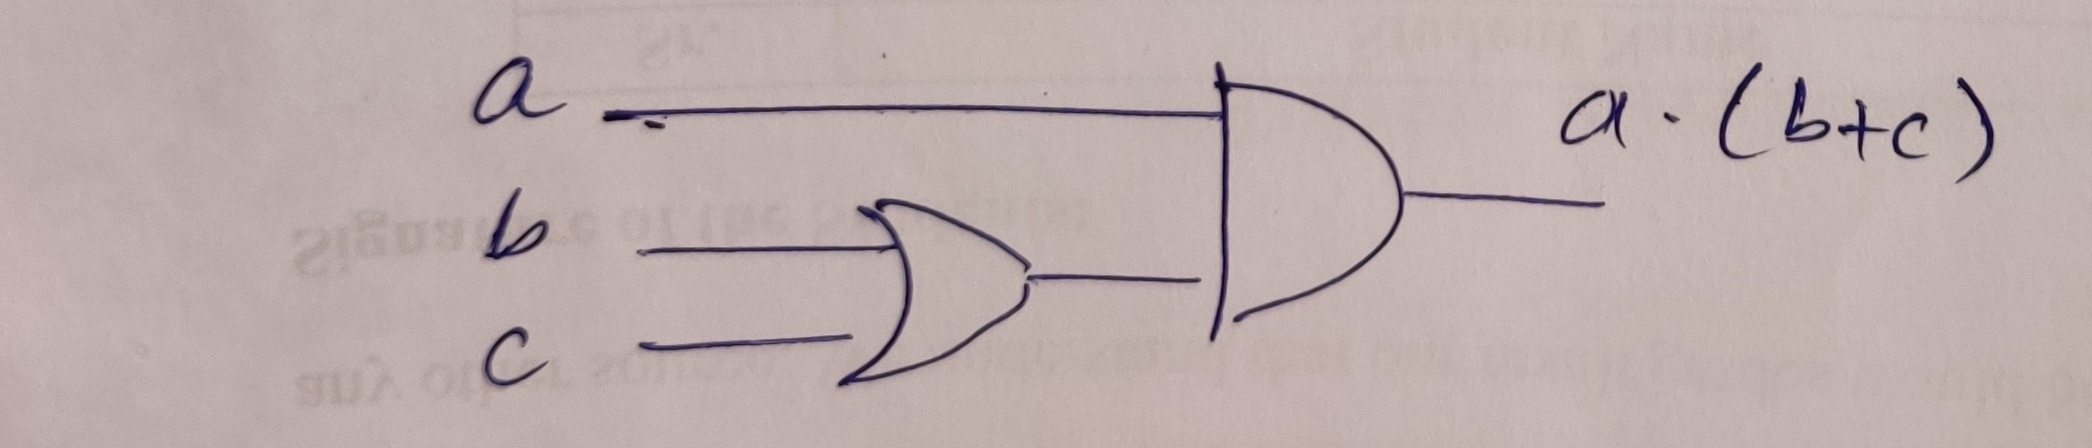and: (1161, 36, 1460, 372)
or: (772, 167, 1097, 405)
